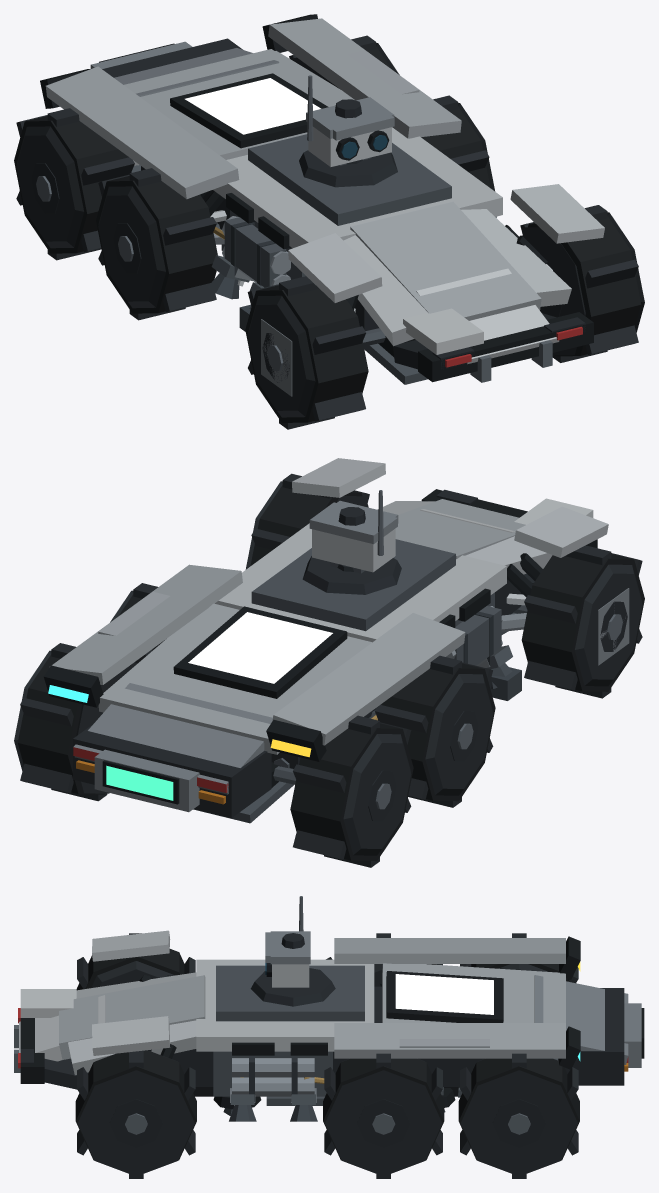
The model's file is r47x_recon_rover_d0_lod1.glb.
The picture shows the model from 3 angles, top to bottom: view 1: azimuth 30°, elevation 25°; view 2: azimuth 150°, elevation 25°; view 3: azimuth 270°, elevation 25°; orthographic projection. The views are drawn at different scales.
Visible parts, largest first — view 1: ZONE_FRONT_BUMPER, CHASSIS_ARMOR_BODY, WHEEL_ML, WHEEL_FL, ZONE_FLANK_NEG_X, WHEEL_RL, WHEEL_FR, ZONE_FLANK_POS_X, DISPLAY_FDAI_TELEMETRY_PANEL, ZONE_REAR_PANEL, SENSOR_MAST_HEAD, WHEEL_MR (+7 smaller); view 2: CHASSIS_ARMOR_BODY, ZONE_REAR_PANEL, WHEEL_FL, WHEEL_RL, ZONE_FRONT_BUMPER, ZONE_FLANK_NEG_X, WHEEL_ML, ZONE_FLANK_POS_X, WHEEL_RR, DISPLAY_FDAI_TELEMETRY_PANEL, SENSOR_MAST_HEAD, WHEEL_FR (+10 smaller); view 3: CHASSIS_ARMOR_BODY, ZONE_FRONT_BUMPER, ZONE_FLANK_POS_X, WHEEL_FR, WHEEL_MR, WHEEL_RR, ZONE_REAR_PANEL, ZONE_FLANK_NEG_X, DISPLAY_FDAI_TELEMETRY_PANEL, WHEEL_FL, SENSOR_MAST_HEAD, DEBRIS_FRONT_BEAK (+5 smaller).
Part boxes in pixels (box(x1,y1,x2,y2)): ZONE_FRONT_BUMPER: box(288, 184, 604, 384); CHASSIS_ARMOR_BODY: box(124, 49, 502, 357); WHEEL_ML: box(96, 168, 217, 320); WHEEL_FL: box(245, 276, 368, 429); ZONE_FLANK_NEG_X: box(40, 66, 305, 285); WHEEL_RL: box(14, 108, 134, 260); WHEEL_FR: box(520, 205, 644, 362); ZONE_FLANK_POS_X: box(262, 14, 496, 217); DISPLAY_FDAI_TELEMETRY_PANEL: box(185, 78, 321, 134); ZONE_REAR_PANEL: box(90, 38, 279, 96); SENSOR_MAST_HEAD: box(306, 75, 394, 166); WHEEL_MR: box(421, 95, 495, 191); CHASSIS_ARMOR_BODY: box(98, 523, 520, 787); ZONE_REAR_PANEL: box(73, 683, 293, 823); WHEEL_FL: box(521, 545, 644, 698); WHEEL_RL: box(290, 715, 413, 867); ZONE_FRONT_BUMPER: box(292, 458, 608, 634); ZONE_FLANK_NEG_X: box(266, 588, 502, 761); WHEEL_ML: box(374, 655, 495, 807); ZONE_FLANK_POS_X: box(43, 564, 242, 707); WHEEL_RR: box(14, 643, 137, 801); DISPLAY_FDAI_TELEMETRY_PANEL: box(188, 612, 332, 683); SENSOR_MAST_HEAD: box(309, 490, 397, 573); WHEEL_FR: box(245, 473, 369, 569); CHASSIS_ARMOR_BODY: box(172, 959, 565, 1105); ZONE_FRONT_BUMPER: box(14, 930, 205, 1089); ZONE_FLANK_POS_X: box(213, 1023, 580, 1109); WHEEL_FR: box(75, 1050, 196, 1178); WHEEL_MR: box(323, 1053, 444, 1178); WHEEL_RR: box(458, 1053, 579, 1178); ZONE_REAR_PANEL: box(458, 975, 644, 1097); ZONE_FLANK_NEG_X: box(334, 936, 580, 979); DISPLAY_FDAI_TELEMETRY_PANEL: box(395, 974, 493, 1014); WHEEL_FL: box(76, 933, 195, 990); SENSOR_MAST_HEAD: box(265, 896, 310, 987); DEBRIS_FRONT_BEAK: box(20, 989, 76, 1017).
Bounding box in the file's own units: 2.43 × 1.69 × 4.74.
